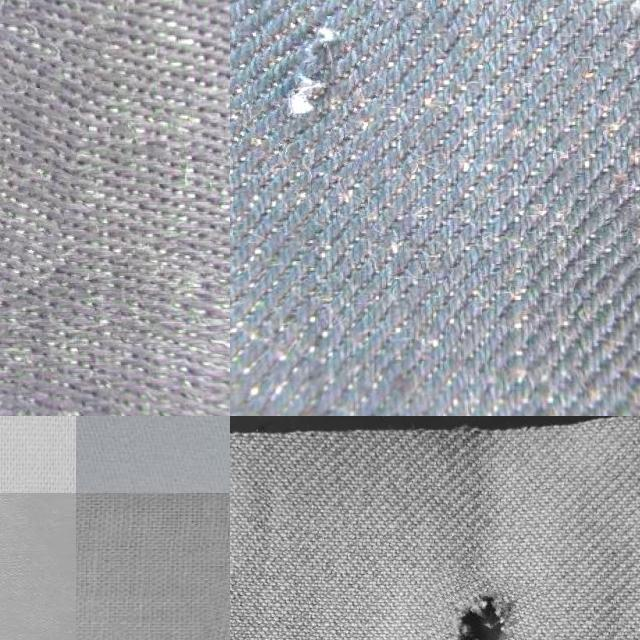Thread_other: (230, 0, 390, 174), (0, 9, 86, 295)
seam: (418, 571, 538, 640)
